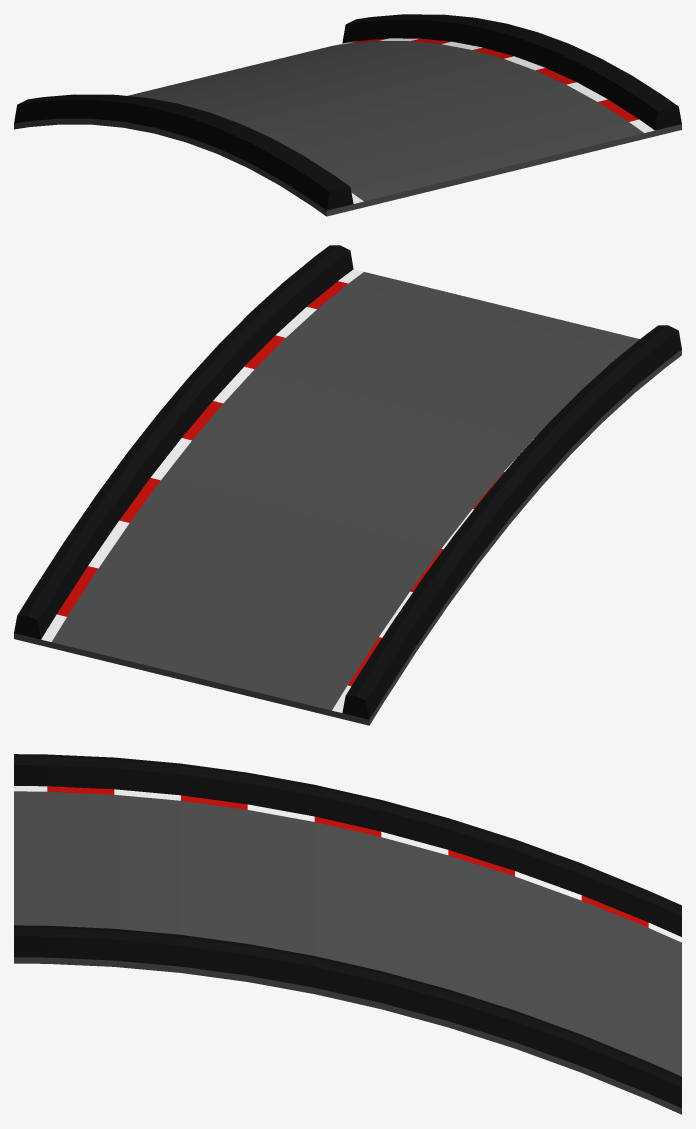
Rendered from slope_down.obj.
3 renders of one model, top to bottom at view 1: azimuth 30°, elevation 25°; view 2: azimuth 150°, elevation 25°; view 3: azimuth 270°, elevation 25°, orthographic. The views are drawn at different scales.
Parts seen in each view (by area): view 1: SlopeDown_Plane.017; view 2: SlopeDown_Plane.017; view 3: SlopeDown_Plane.017.
Boxes of the visible parts, x1,y1,x2,y2 form: SlopeDown_Plane.017: (14,14,681,216); SlopeDown_Plane.017: (14,245,681,725); SlopeDown_Plane.017: (14,754,681,1114).
Bounding box in the file's own units: 13.13 × 5.94 × 20.
